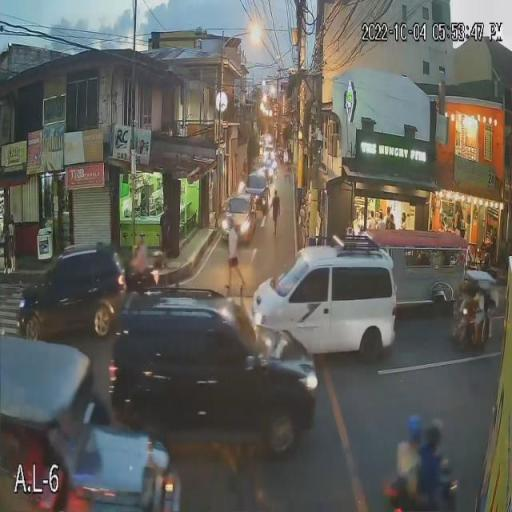helmet: (423, 417, 444, 449), (406, 415, 424, 442)
motorcycle: (382, 470, 462, 512)
rider: (395, 441, 424, 506), (422, 452, 448, 510)
